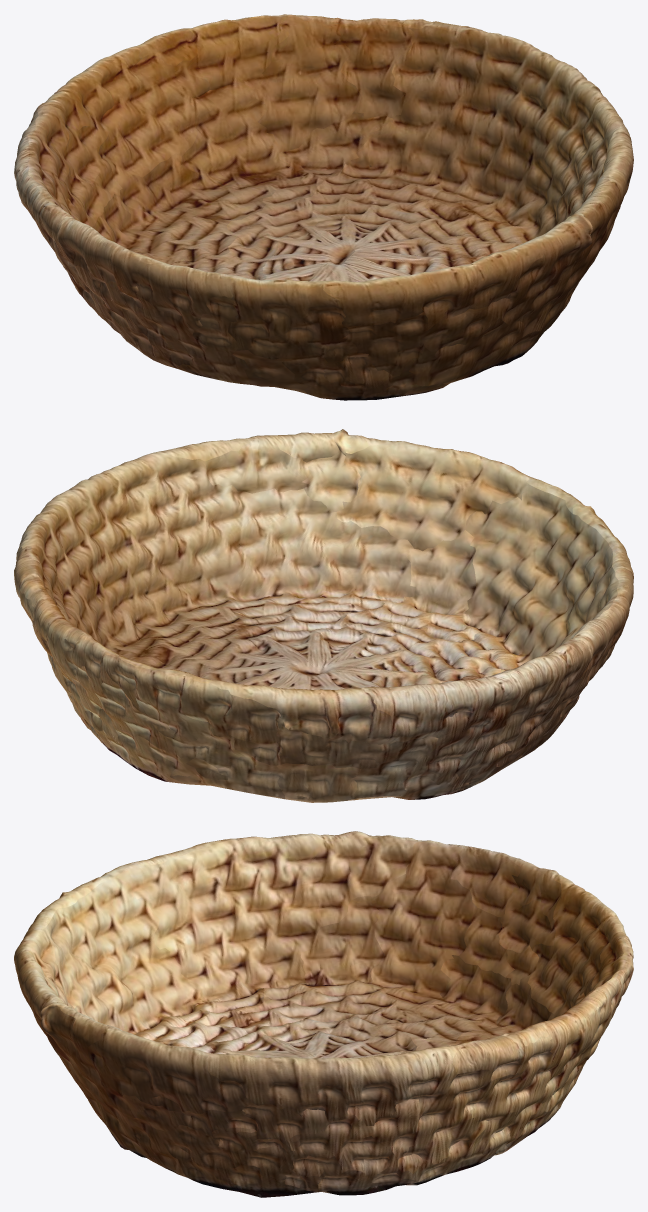
Rendered from basket.glb.
3 views of the same model, one above another, from view 1: azimuth 30°, elevation 25°; view 2: azimuth 150°, elevation 25°; view 3: azimuth 270°, elevation 25° (orthographic).
Parts seen in each view (by area): view 1: Object; view 2: Object; view 3: Object.
Part boxes in pixels (left/top/right/bottom): Object: left=14, top=14, right=633, bottom=400; Object: left=14, top=429, right=633, bottom=802; Object: left=14, top=831, right=633, bottom=1197.
Bounding box in the file's own units: 0.2348 × 0.074 × 0.2407.
1 material, 1 textured.
